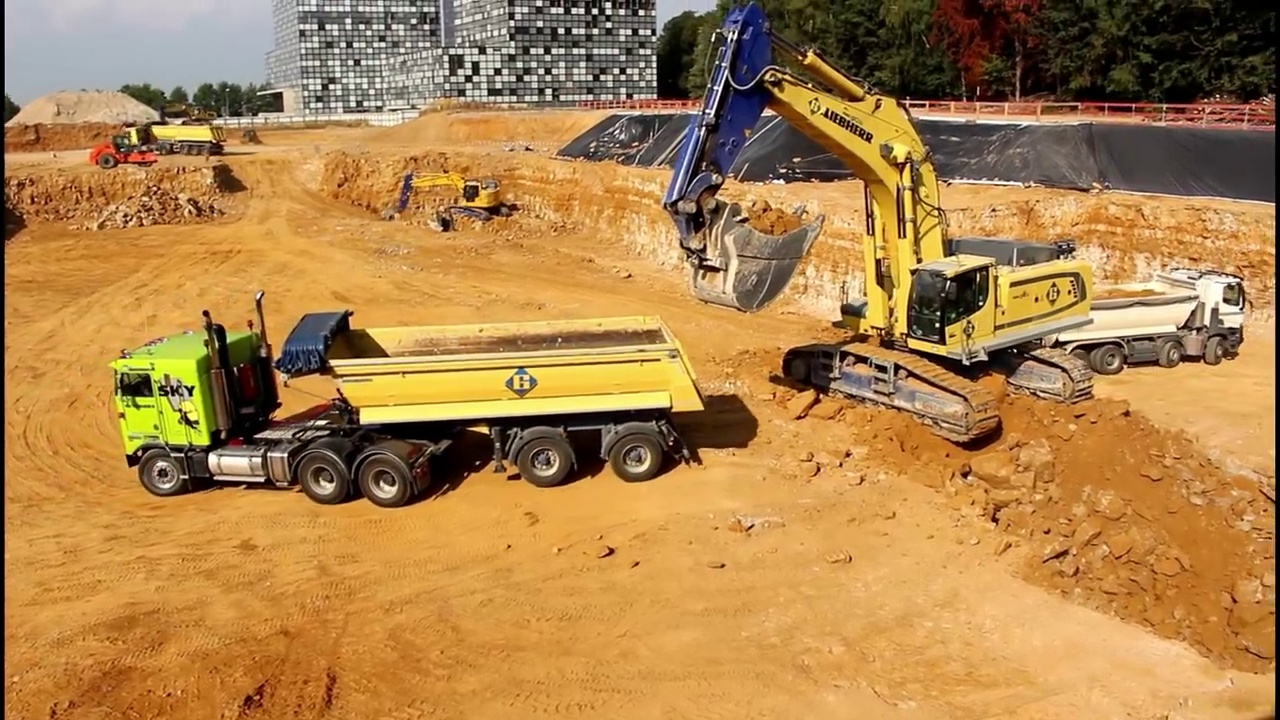compactor: (88, 133, 156, 171)
excavator: (661, 5, 1097, 448), (388, 168, 515, 228), (164, 98, 215, 127)
truck: (99, 289, 711, 510), (1002, 264, 1256, 383), (111, 120, 229, 158)
